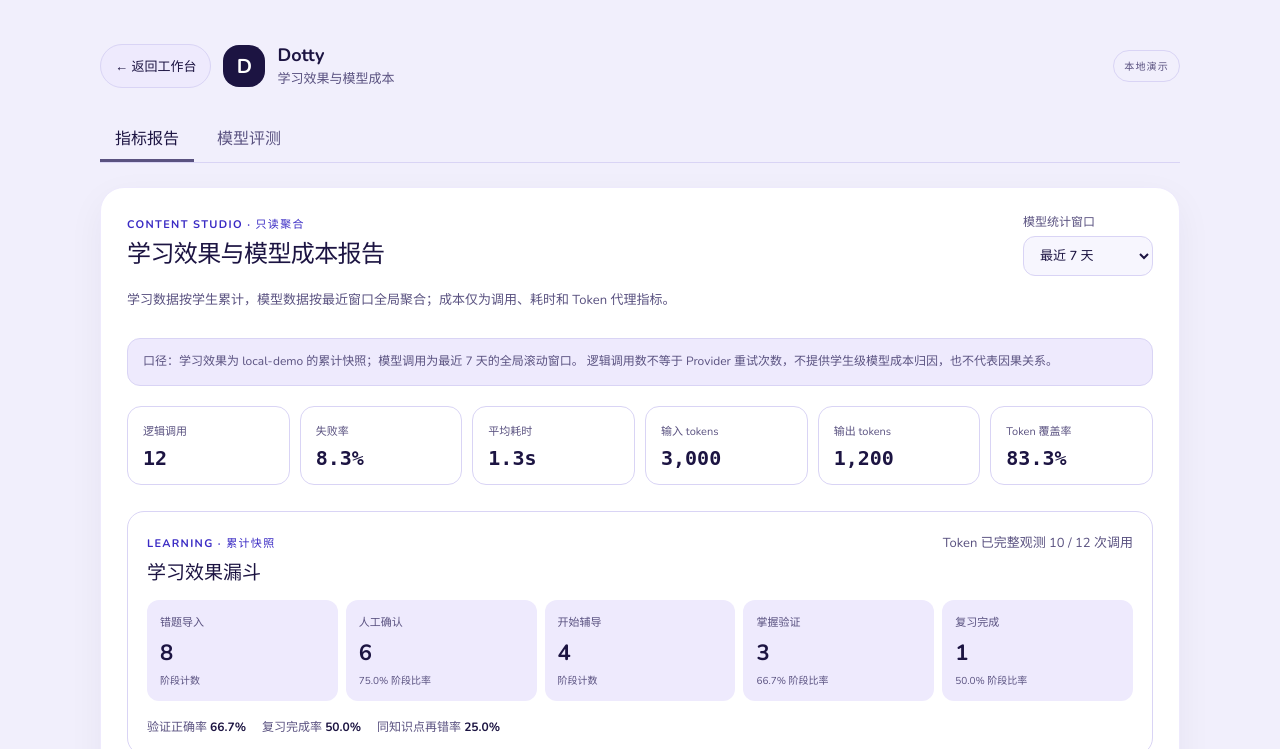
Test: ModelMetricsApp › user Given a teacher opens advanced model evaluation When selecting the evaluation tab Then all source cases are available without starting a model run
This screenshot has width=1280, height=749.
Check: the heading "学习效果与模型成本报告" is shown, box [127, 238, 384, 270]
Check: the field labelled "基线模型" is not shown
Click the tab "模型评测": {"x": 249, "y": 139} [202, 116, 296, 162]
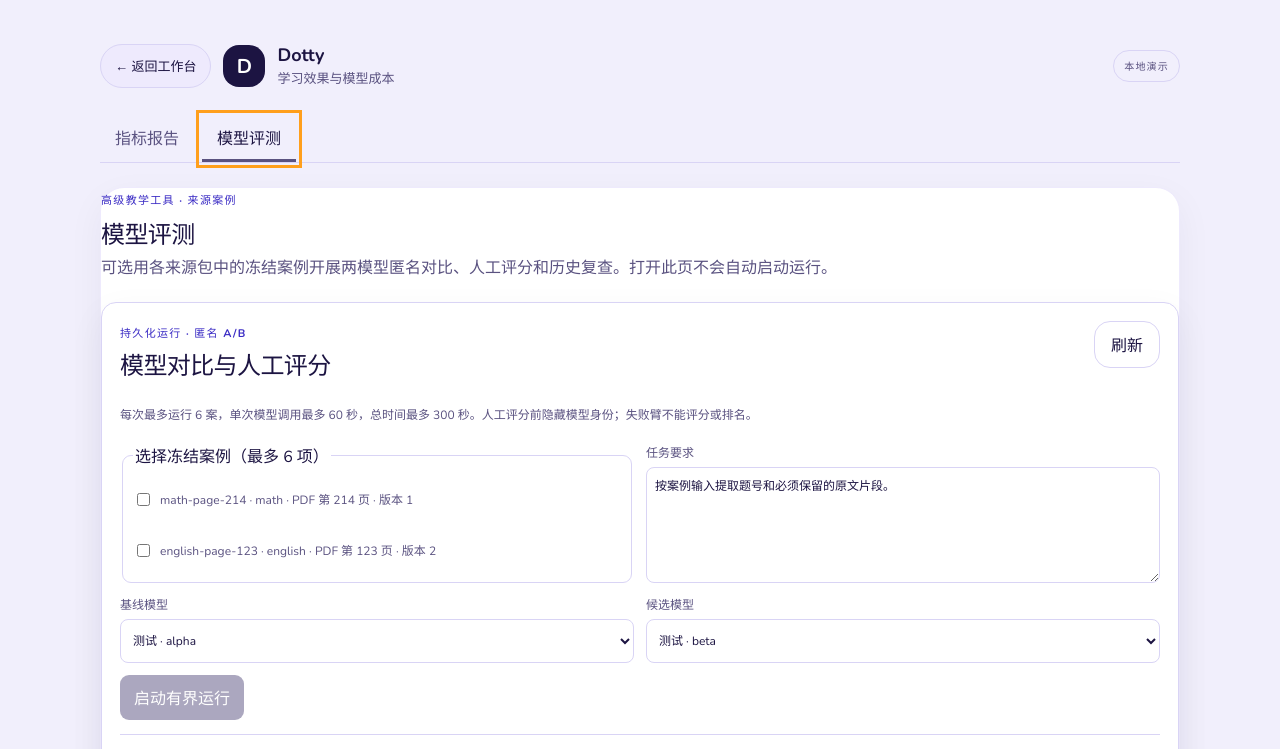
Check: the heading "模型对比与人工评分" is shown, box [120, 346, 331, 382]
Check: the text "math-page-214 · math · PDF 第 214 页 · 版本 1" is shown, box [160, 490, 413, 508]
Check: the text "english-page-123 · english · PDF 第 123 页 · 版本 2" is shown, box [160, 541, 436, 559]
